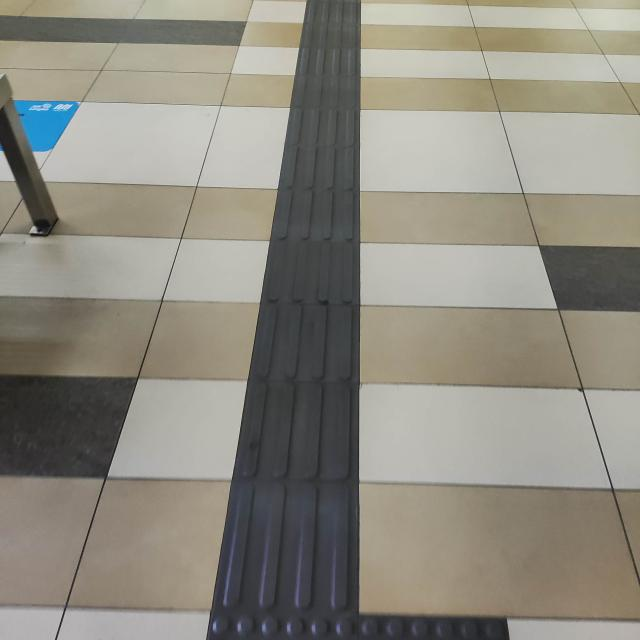lurus: (249, 0, 372, 613)
